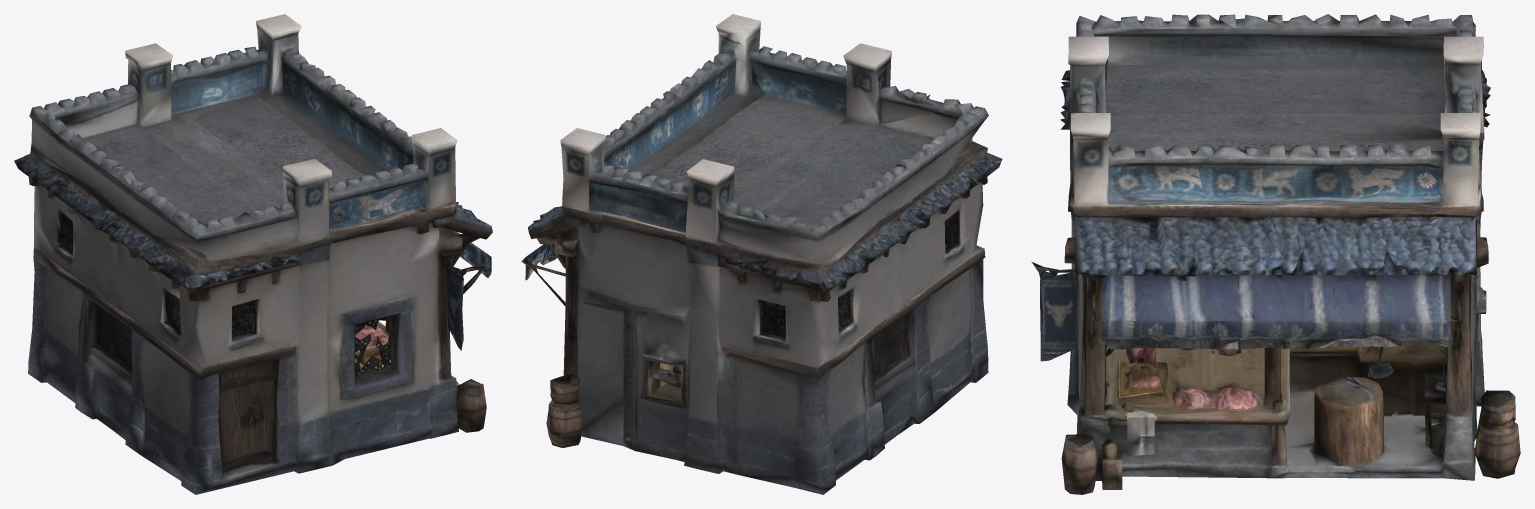
Rendered from butcher.glb.
3 views of the same model, side by side, from view 1: azimuth 30°, elevation 25°; view 2: azimuth 150°, elevation 25°; view 3: azimuth 270°, elevation 25° (orthographic). The views are drawn at different scales.
Parts seen in each view (by area): view 1: tripo_node_4aec4c42-5bd9-4aee-8e4b-717b259726e0; view 2: tripo_node_4aec4c42-5bd9-4aee-8e4b-717b259726e0; view 3: tripo_node_4aec4c42-5bd9-4aee-8e4b-717b259726e0.
Boxes of the visible parts, box(x1,y1,x2,y2) form: tripo_node_4aec4c42-5bd9-4aee-8e4b-717b259726e0: box(14, 14, 492, 494); tripo_node_4aec4c42-5bd9-4aee-8e4b-717b259726e0: box(521, 14, 1002, 494); tripo_node_4aec4c42-5bd9-4aee-8e4b-717b259726e0: box(1031, 14, 1520, 494).
Size of the model in its own units: 0.8814 by 0.7705 by 0.9752.
Materials: 1 (1 with a texture image).
